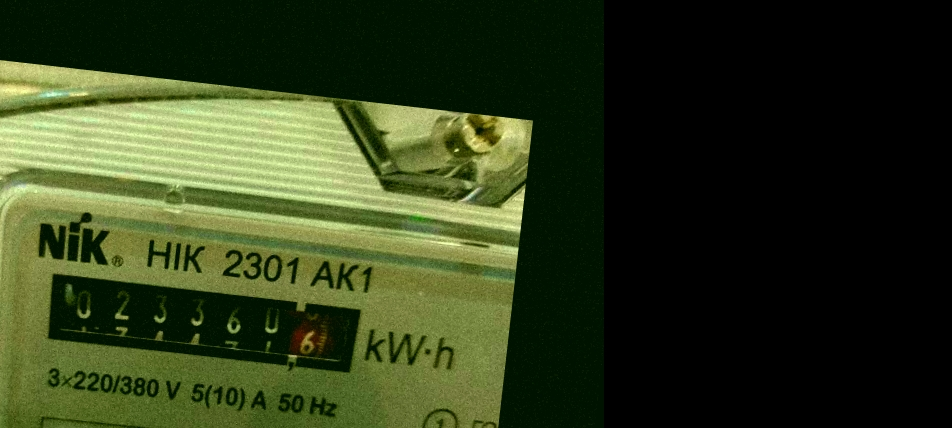0: (71, 285, 96, 320), (261, 303, 282, 335)
2: (109, 286, 136, 323)
3: (147, 291, 171, 325), (186, 294, 208, 327)
6: (221, 301, 245, 335), (294, 325, 319, 356)
screen: (25, 254, 376, 390)
